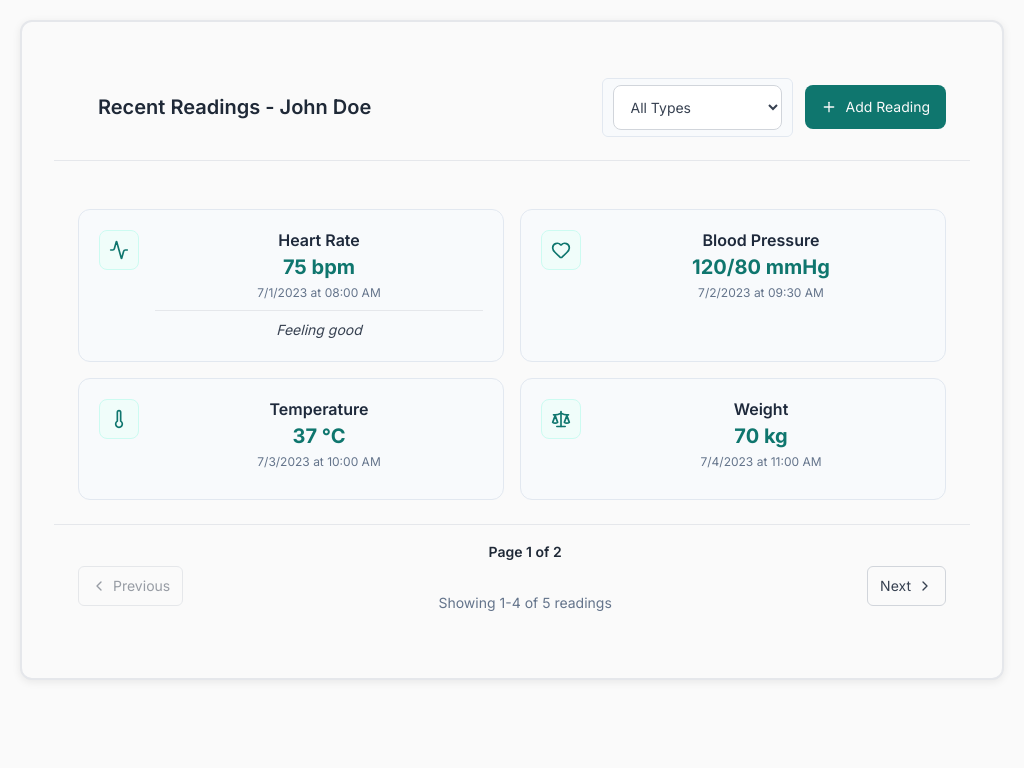
Test: ReadingsCard › opens edit modal when reading card is clicked
// Click on a reading card
What coordinates should you click on to do the following:
click the text "75 bpm"
I would click on:
 (291, 286)
Its box is [78,209,504,362].
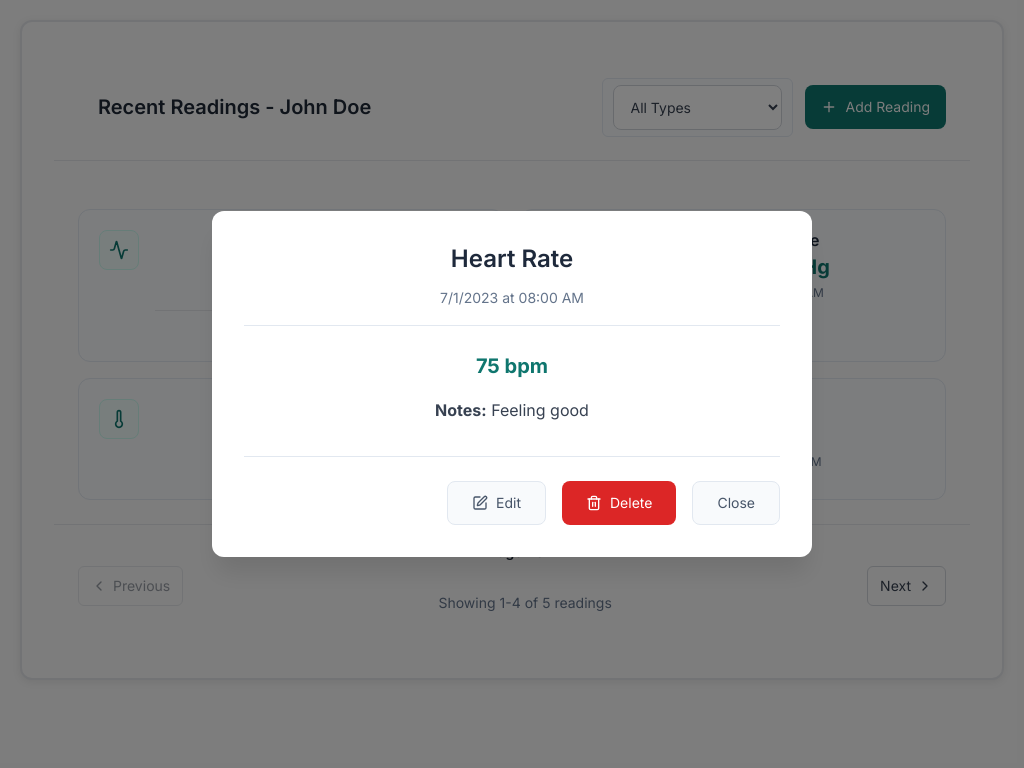
Check: the button "Edit" is shown, box [447,481,546,525]
Check: the button "Delete" is shown, box [562,481,676,525]
Check: the button "Close" is shown, box [692,481,780,525]
